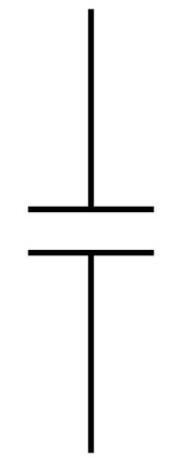Capacitor: (21, 179, 159, 286)
